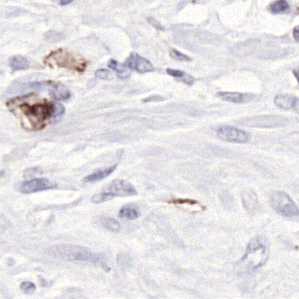Lymphocyte: (12, 97, 56, 127)
